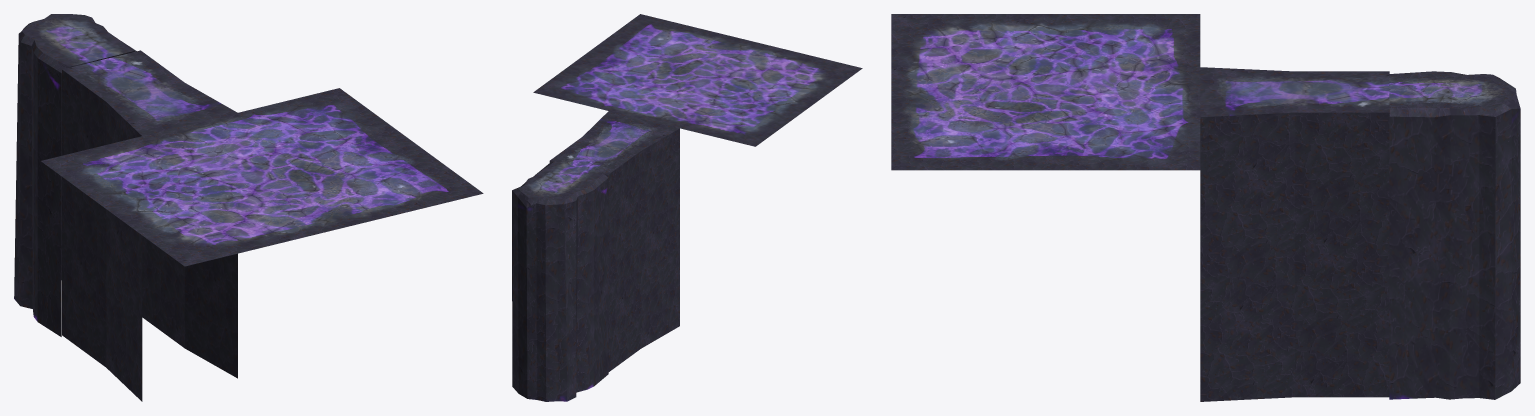
The model's file is Boss2.fbx.
The picture shows the model from 3 angles, left to right: view 1: azimuth 30°, elevation 25°; view 2: azimuth 150°, elevation 25°; view 3: azimuth 270°, elevation 25°; orthographic projection. The views are drawn at different scales.
Visible parts, largest first — view 1: Cube; view 2: Cube; view 3: Cube.
Part boxes in pixels (x1=…): Cube: x1=14, y1=14, x2=483, y2=401; Cube: x1=512, y1=14, x2=862, y2=401; Cube: x1=891, y1=14, x2=1520, y2=401.
Size of the model in its own units: 131 by 112 by 223.
